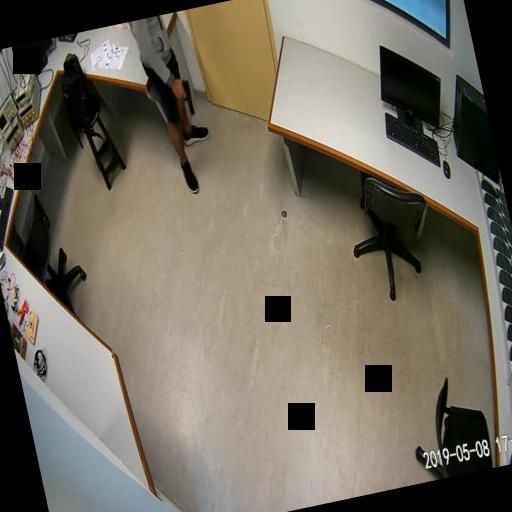Handgun: (174, 76, 194, 116)
